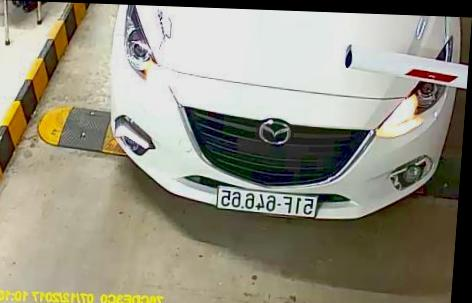License_Plate: (214, 186, 322, 216)
